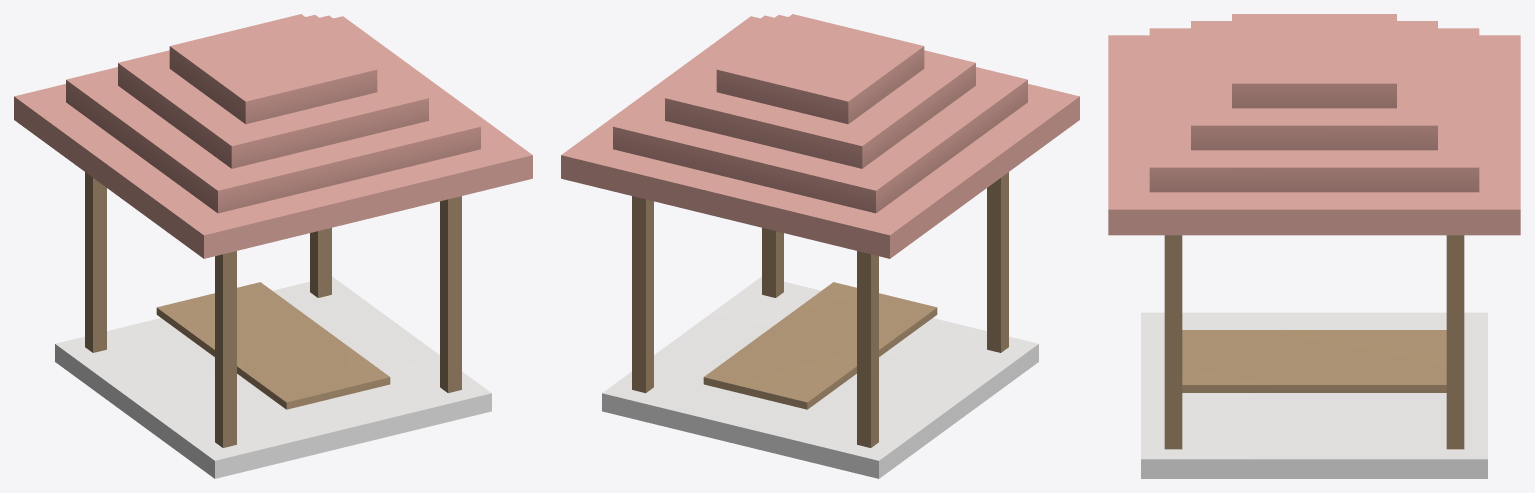
Rendered from Prop_Pavilion.fbx.
3 views of the same model, side by side, from view 1: azimuth 30°, elevation 25°; view 2: azimuth 150°, elevation 25°; view 3: azimuth 270°, elevation 25° (orthographic). The views are drawn at different scales.
Visible parts, largest first — view 1: Prop_Pavilion; view 2: Prop_Pavilion; view 3: Prop_Pavilion.
Part boxes in pixels (bbox=[...]): Prop_Pavilion: bbox=[14, 14, 532, 478]; Prop_Pavilion: bbox=[561, 14, 1079, 478]; Prop_Pavilion: bbox=[1108, 14, 1520, 478].
Bounding box in the file's own units: 3.8 × 3.63 × 3.8.
